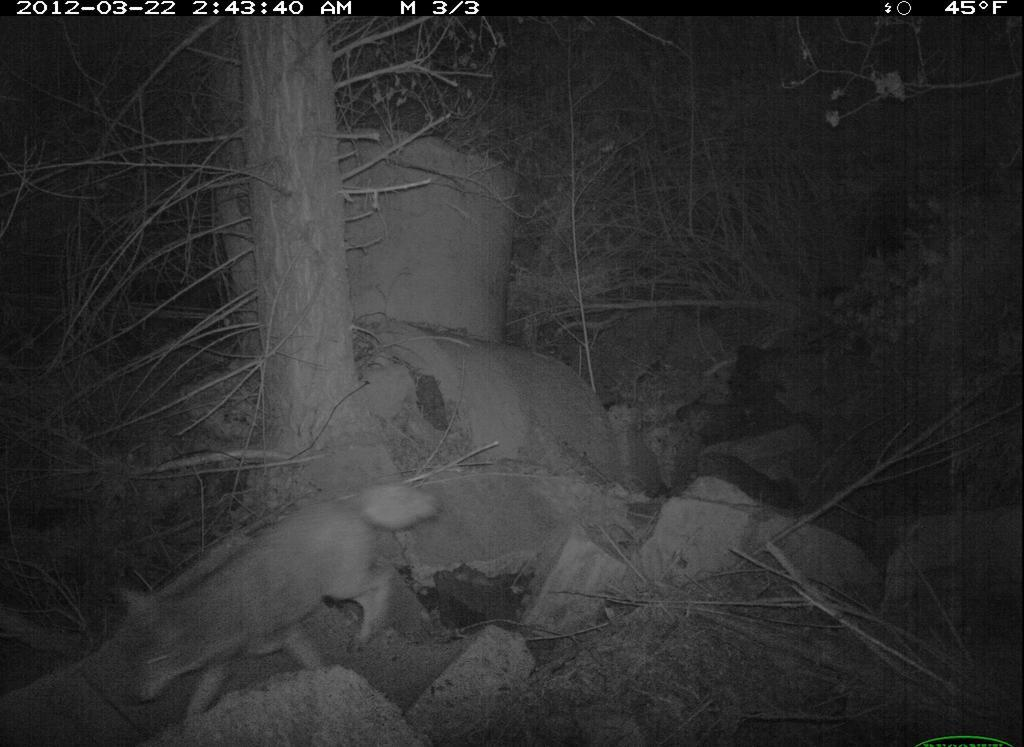coyote: (111, 477, 433, 728)
